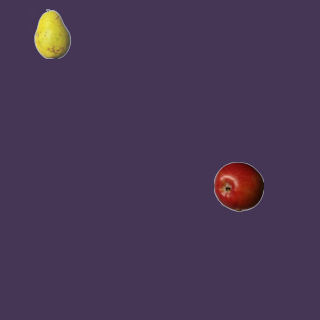Apple Braeburn: (213, 161, 263, 211)
Pear Monster: (27, 8, 77, 58)
